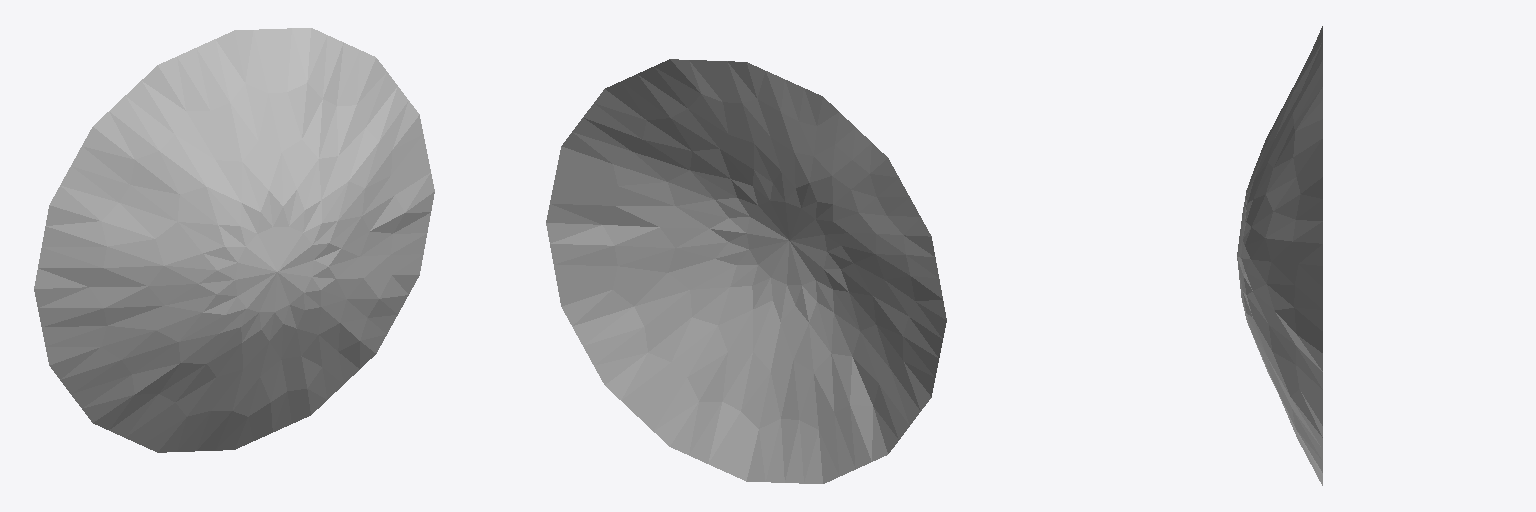
File: ore.obj
The picture shows the model from 3 angles: view 1: azimuth 30°, elevation 25°; view 2: azimuth 150°, elevation 25°; view 3: azimuth 270°, elevation 25°; orthographic projection.
Visible parts, largest first — view 1: Cone; view 2: Cone; view 3: Cone.
Boxes of the visible parts, x1=… form: Cone: x1=34, y1=28, x2=434, y2=452; Cone: x1=546, y1=59, x2=946, y2=483; Cone: x1=1237, y1=26, x2=1322, y2=485.
Bounding box in the file's own units: 0.6522 × 0.6522 × 0.1213.